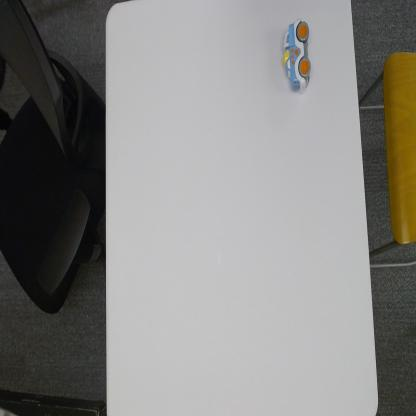Car: (282, 16, 312, 96)
